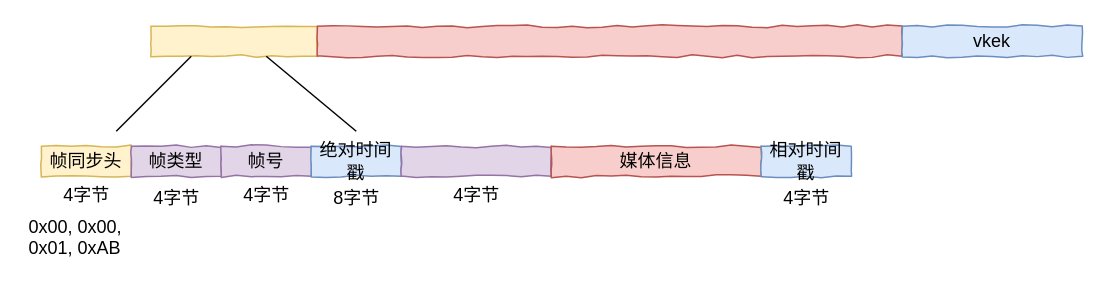
This 1109x293 diagram has some shape labels left out. Here are the shapes that lost their labels. From the top down, the centre of each, then its label:
At point 233,40: "fsan帧头".
At point 609,40: "帧数据".
At point 475,160: "帧载长度".
